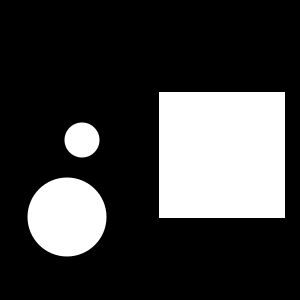circle: (159, 92, 285, 218)
rectangle: (28, 178, 106, 256), (64, 122, 100, 158)
